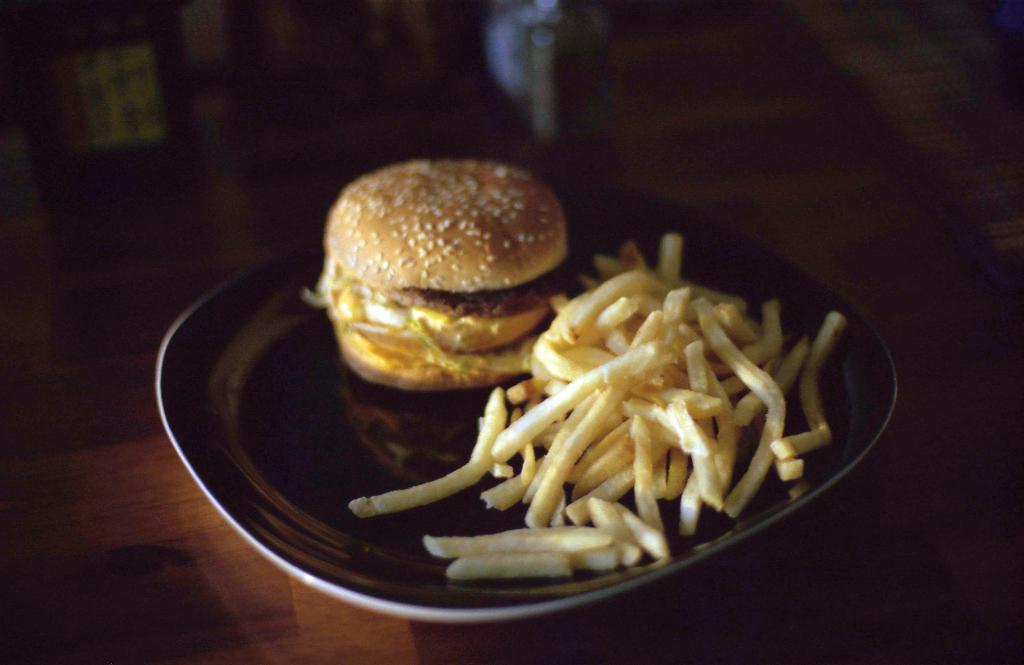French fries: (419, 248, 830, 574)
